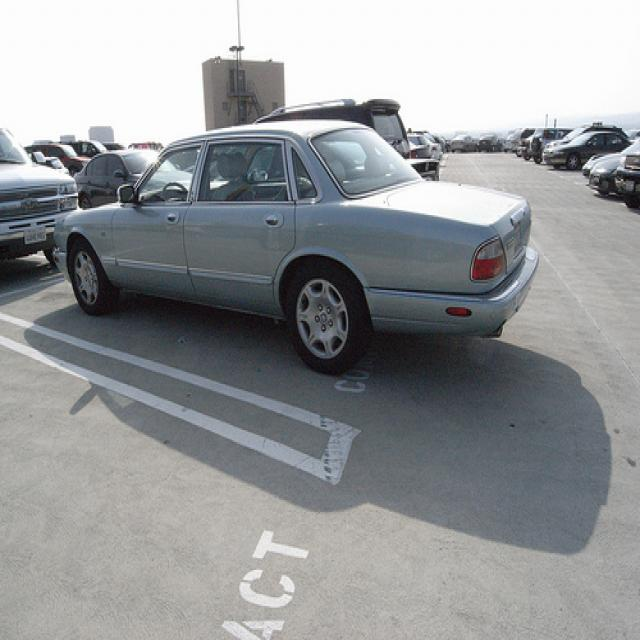Car: (59, 136, 538, 375), (0, 117, 76, 280), (77, 138, 209, 227), (546, 126, 637, 174)
